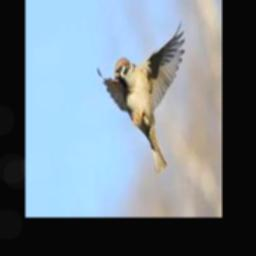Sparrow: (97, 20, 184, 174)
